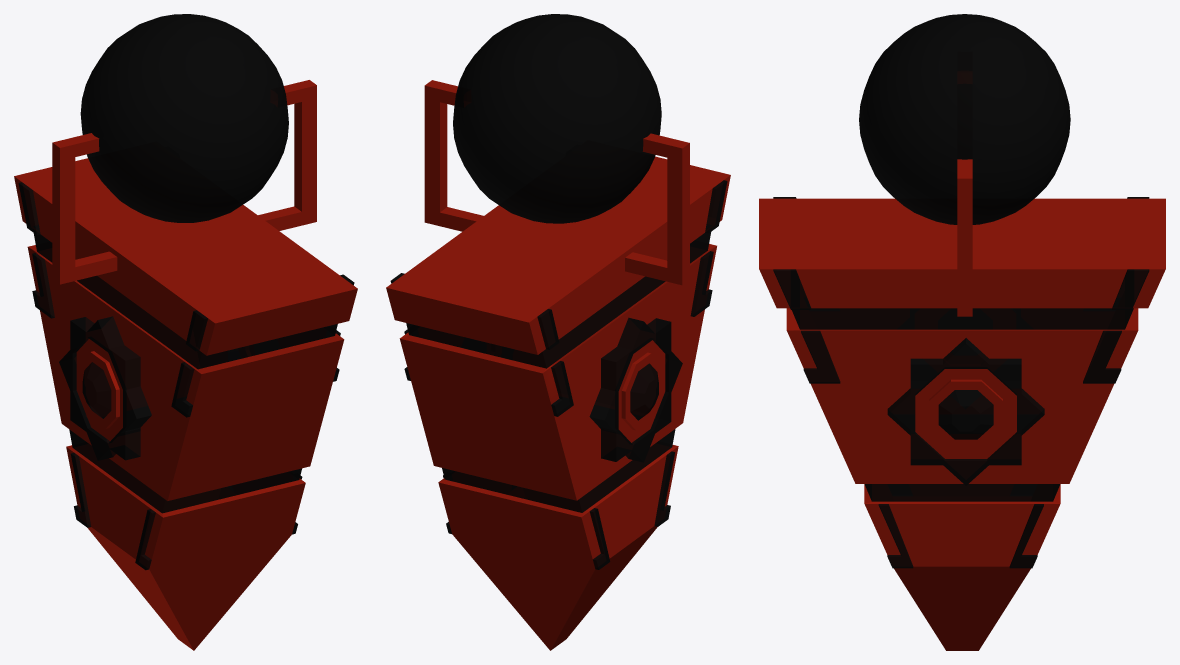
File: RedIdle.fbx
3 views of the same model, side by side, from view 1: azimuth 30°, elevation 25°; view 2: azimuth 150°, elevation 25°; view 3: azimuth 270°, elevation 25° (orthographic).
Parts seen in each view (by area): view 1: pCube14; view 2: pCube14; view 3: pCube14.
Boxes of the visible parts, x1,y1,x2,y2 form: pCube14: [14, 14, 357, 650]; pCube14: [386, 14, 730, 650]; pCube14: [759, 14, 1165, 650].
Bounding box in the file's own units: 3.24 × 7.47 × 4.39.
